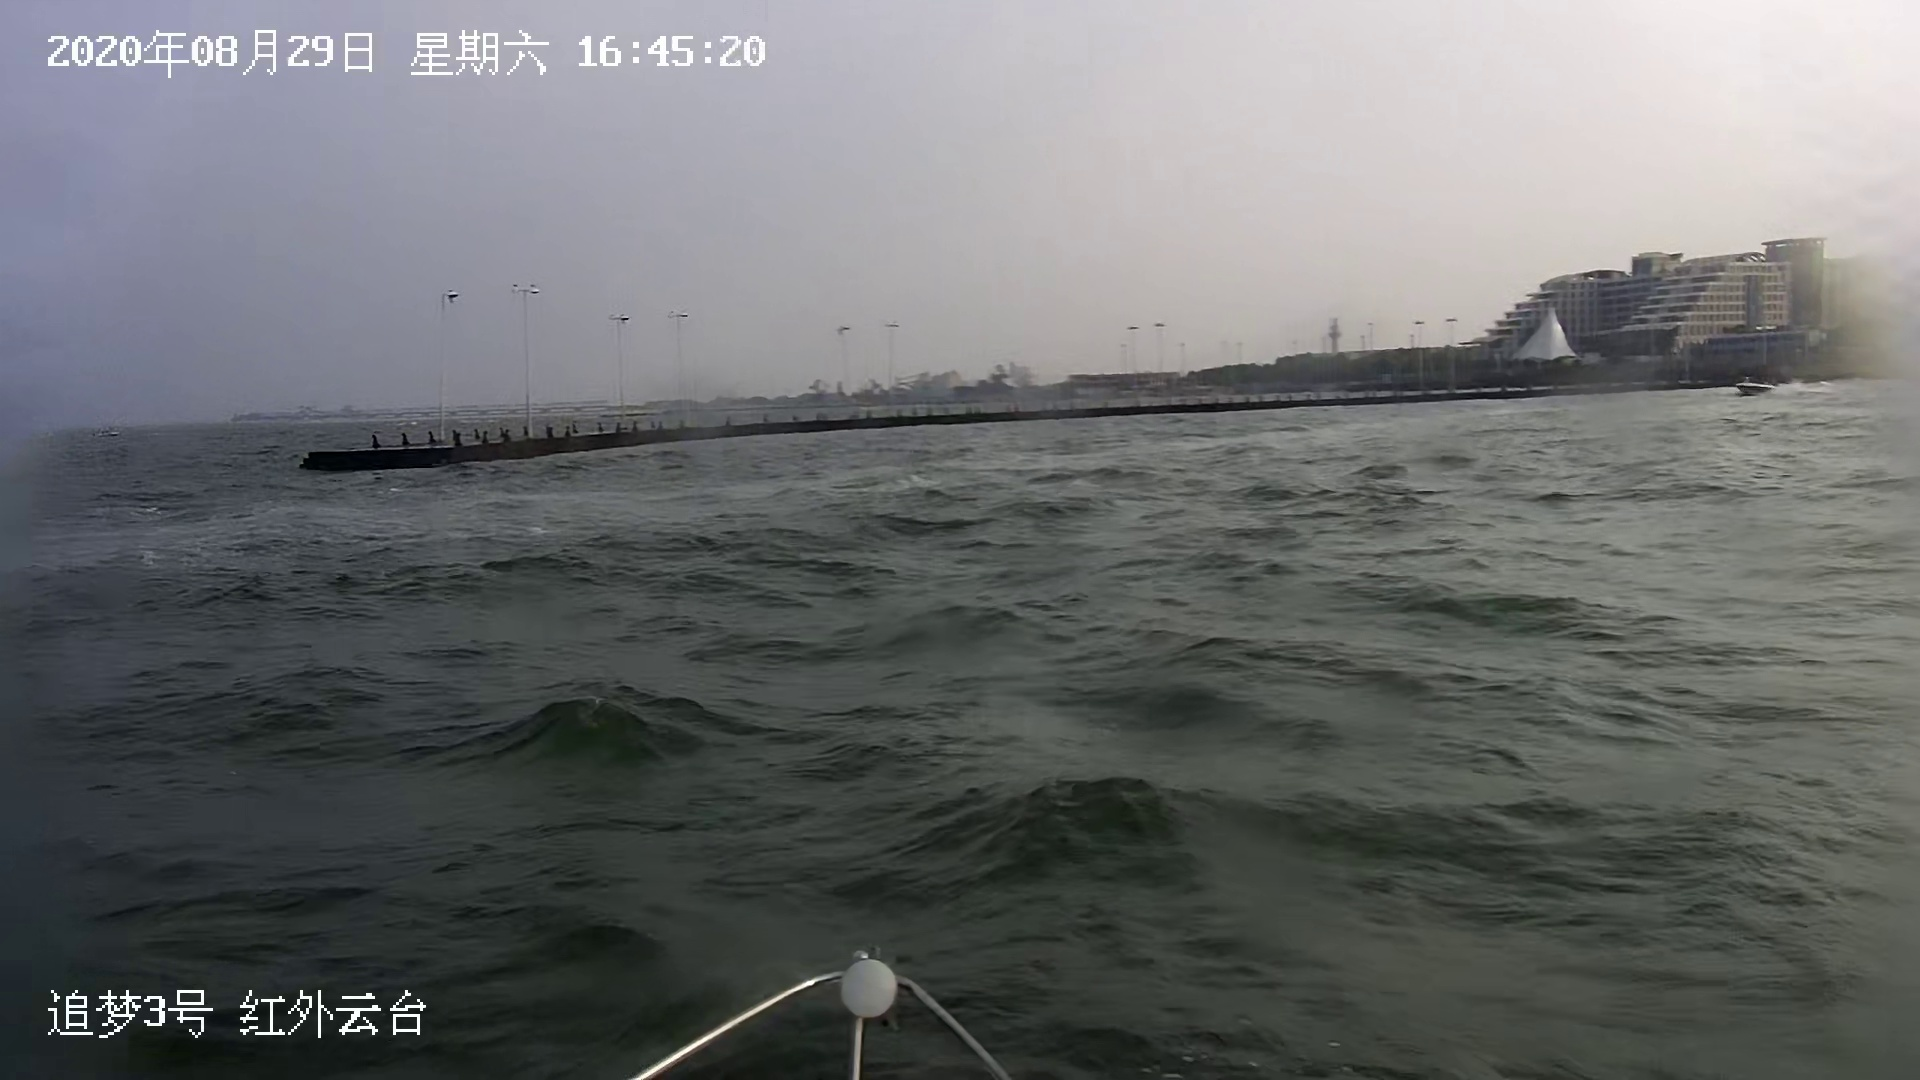barrier: (1735, 380, 1772, 400)
coast: (291, 235, 1917, 476)
